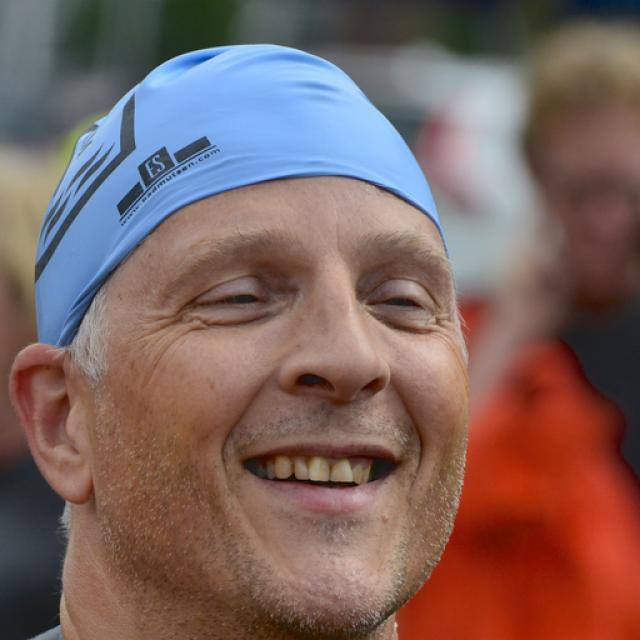happy: (92, 168, 475, 640)
